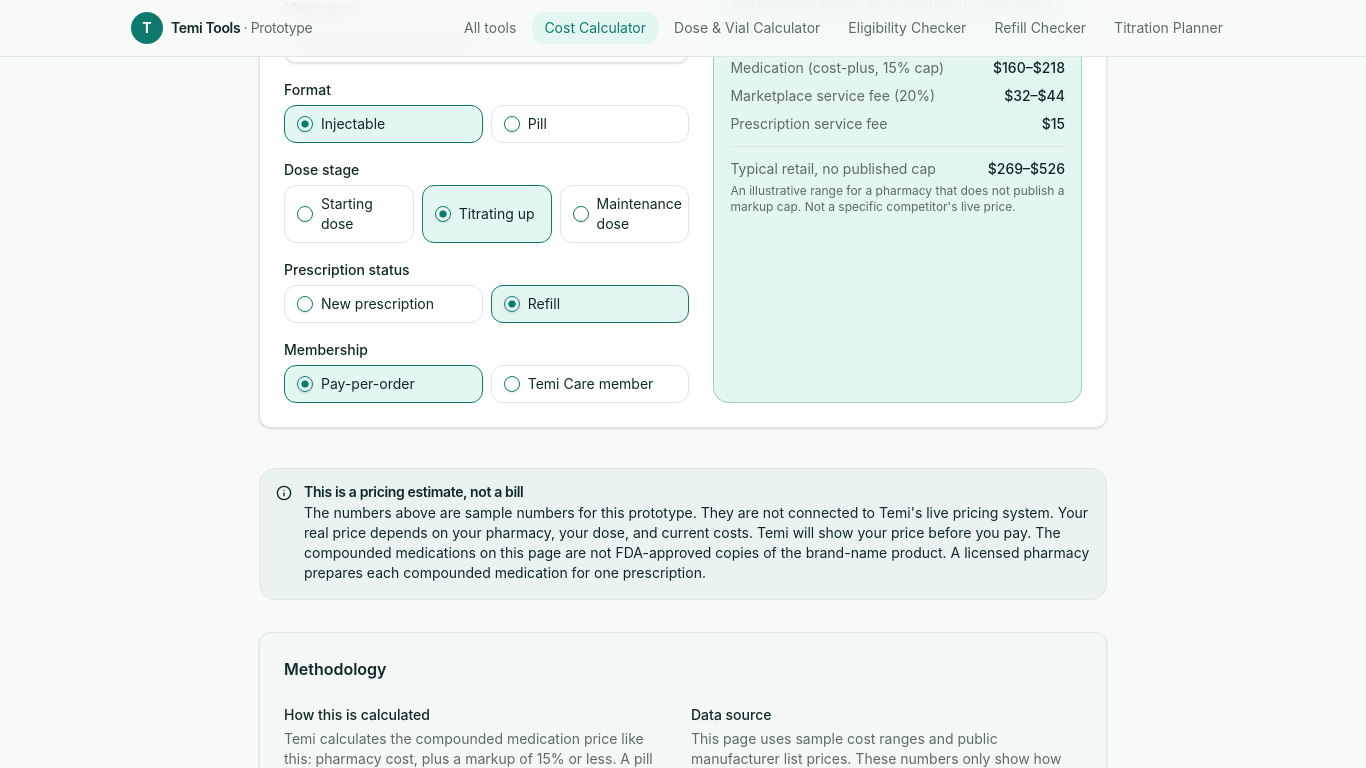
Scenario: GLP-1 Cost Calculator › shows an estimated total that responds to membership selection
The image size is (1366, 768).
(page scrolled)
Expected: the text "Marketplace service fee (20%)" is shown, left=730, top=86, right=935, bottom=106
Step 1. Click the 9th radio button named "temi care member" → (512,384), box left=504, top=376, right=520, bottom=392
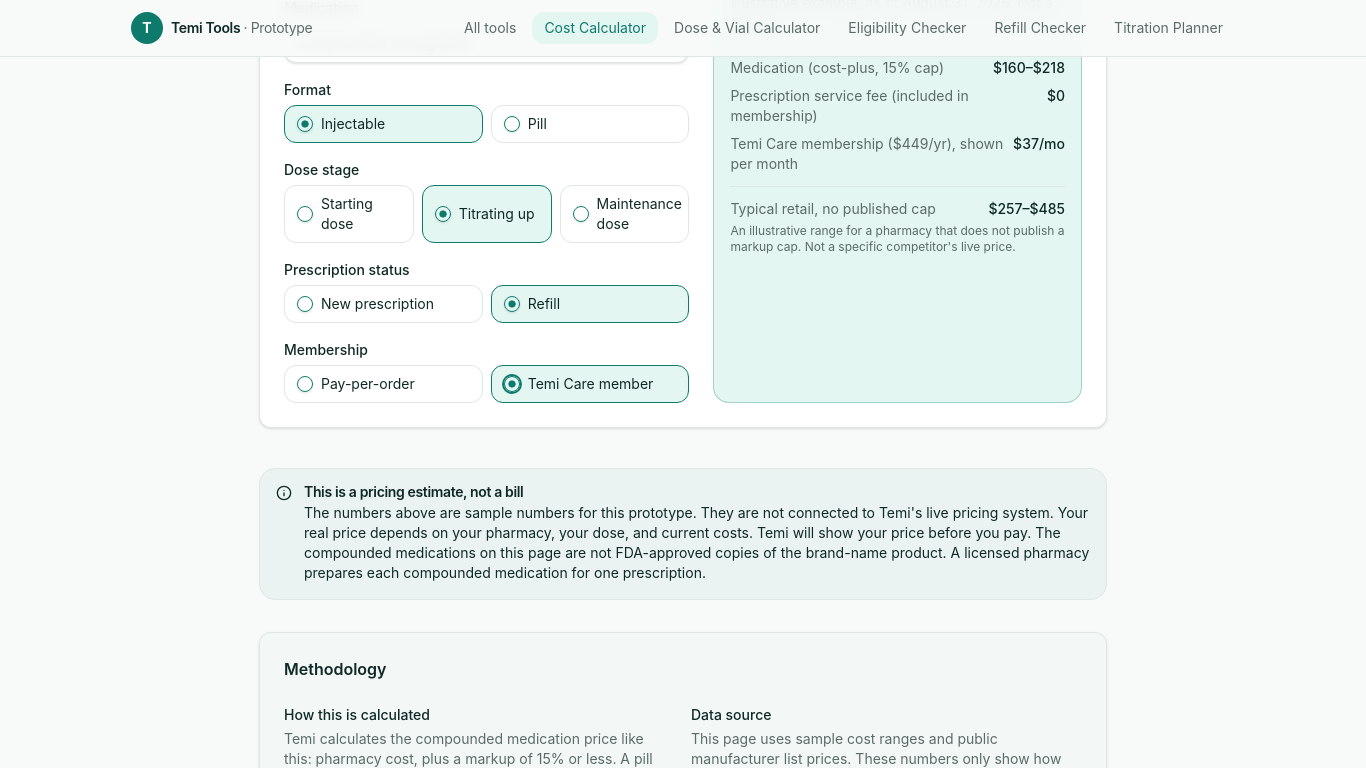
Result: the text "Marketplace service fee (20%)" is gone
Result: the text "Temi Care membership ($449/yr), shown per month" is shown at left=730, top=134, right=1005, bottom=174
